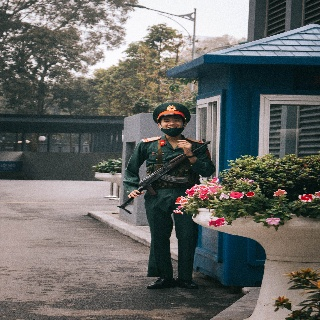rifle: (116, 137, 213, 216)
